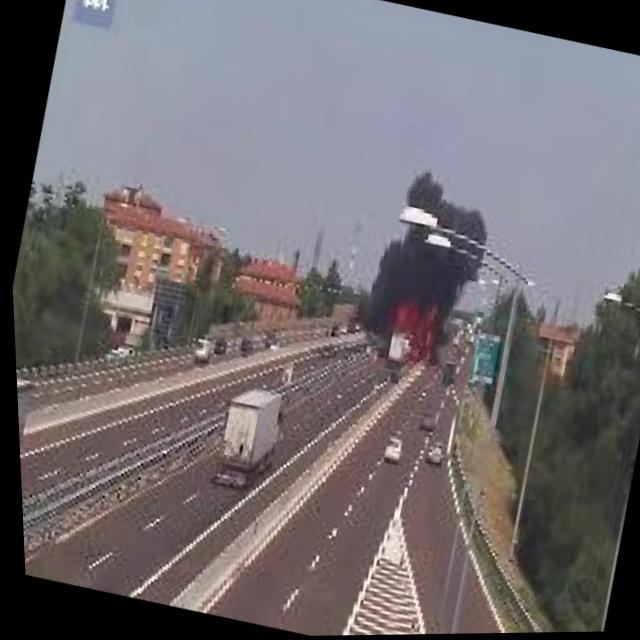fire: (375, 291, 450, 377)
